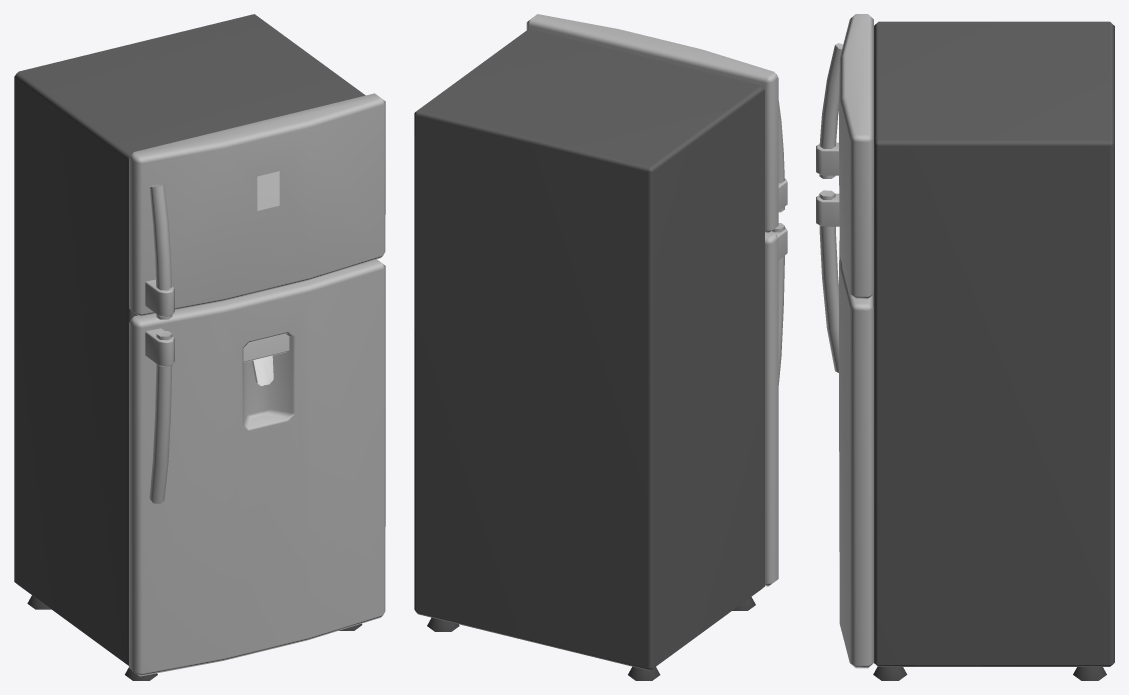
Rendered from kitchen_003.fbx.
The picture shows the model from 3 angles, left to right: view 1: azimuth 30°, elevation 25°; view 2: azimuth 150°, elevation 25°; view 3: azimuth 270°, elevation 25°; orthographic projection. The views are drawn at different scales.
Visible parts, largest first — view 1: kitchen_003; view 2: kitchen_003; view 3: kitchen_003.
Boxes of the visible parts, bbox=[...] form: kitchen_003: bbox=[14, 14, 385, 680]; kitchen_003: bbox=[414, 14, 787, 680]; kitchen_003: bbox=[816, 14, 1114, 680].
Bounding box in the file's own units: 99.48 × 100 × 203.
